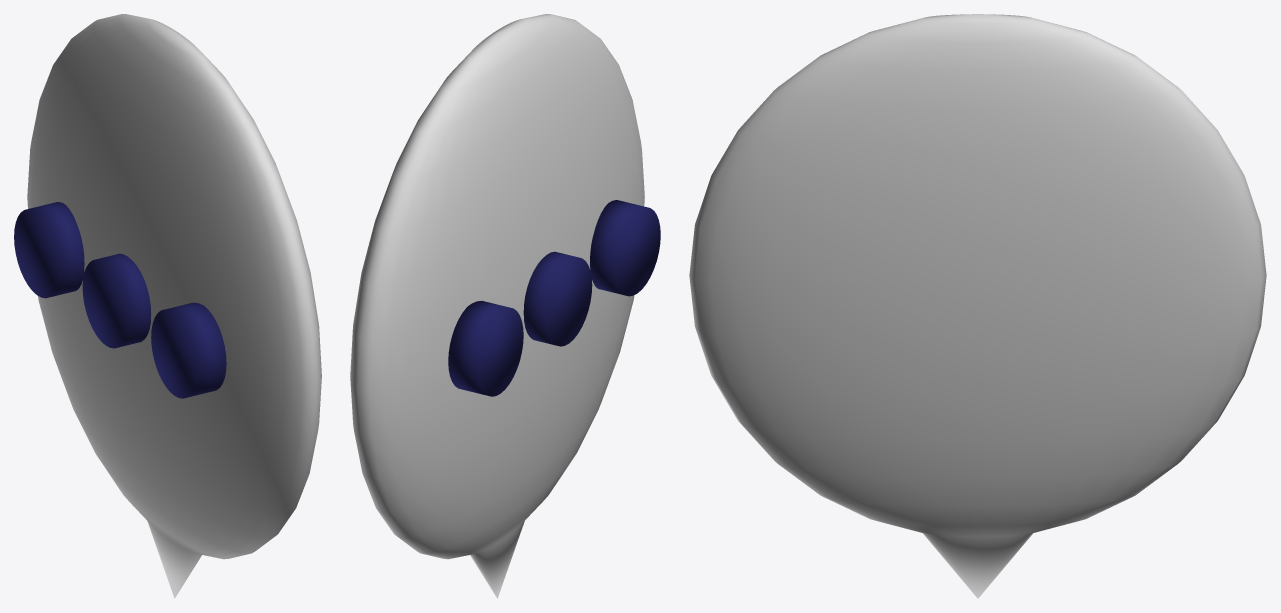
Rendered from bubble_normal.glb.
The picture shows the model from 3 angles, left to right: view 1: azimuth 30°, elevation 25°; view 2: azimuth 150°, elevation 25°; view 3: azimuth 270°, elevation 25°; orthographic projection. The views are drawn at different scales.
Parts seen in each view (by area): view 1: 球体, 柱体; view 2: 球体, 柱体; view 3: 球体.
Boxes of the visible parts, x1,y1,x2,y2 form: 球体: (27, 14, 321, 598); 柱体: (14, 202, 226, 398); 球体: (350, 14, 644, 598); 柱体: (448, 200, 660, 396); 球体: (689, 14, 1266, 598).
Bounding box in the file's own units: 0.4928 × 2.24 × 2.
